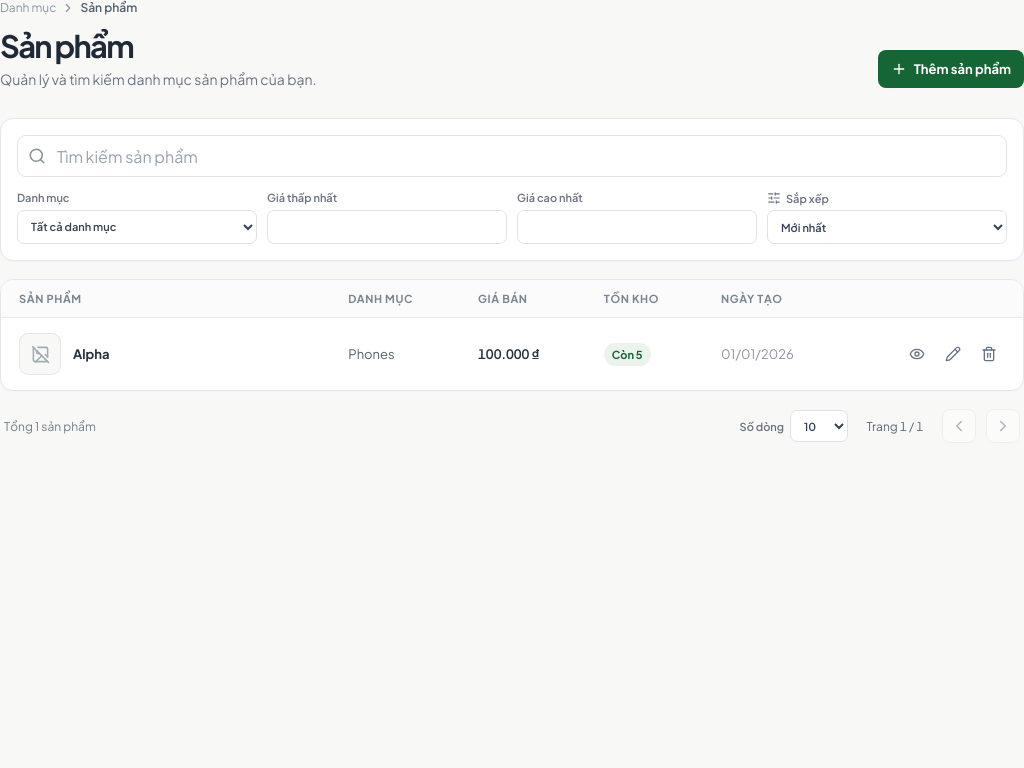
ProductsPage › a failed delete shows an error, keeps the row and does not refetch or retry
Check: the text "Alpha" is shown, box [73,346,110,362]
Click the button named "Xóa Alpha": [989, 354] box [973,338,1005,370]
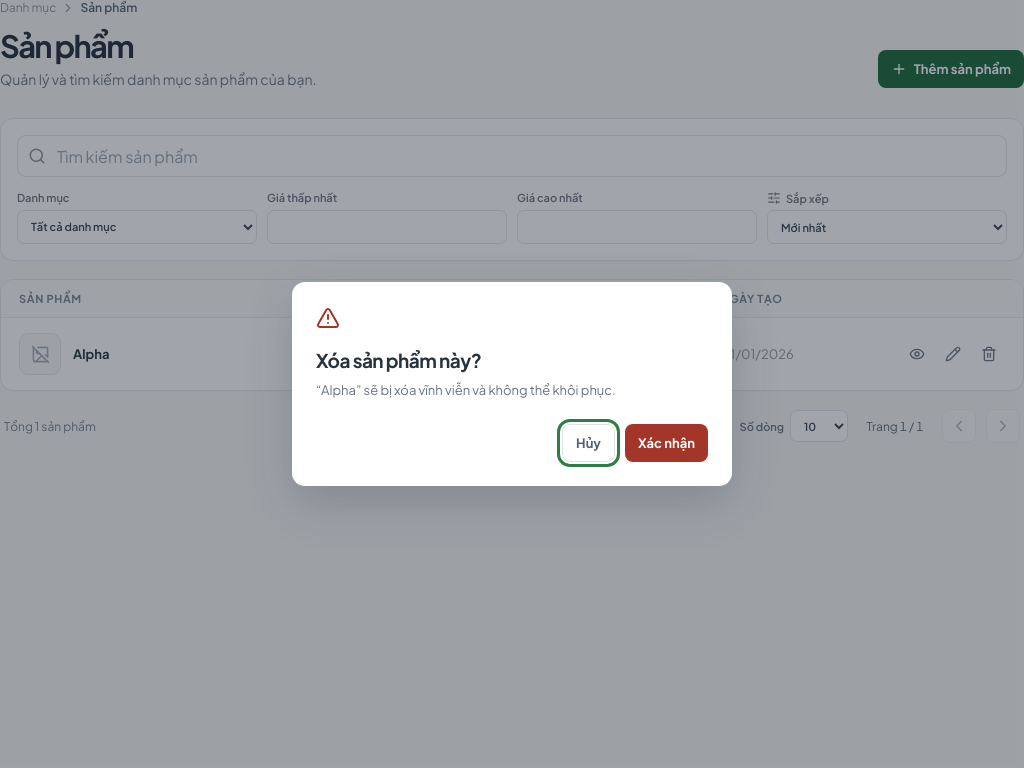
Click the button "Xác nhận": [666, 443] box [625,424,708,462]
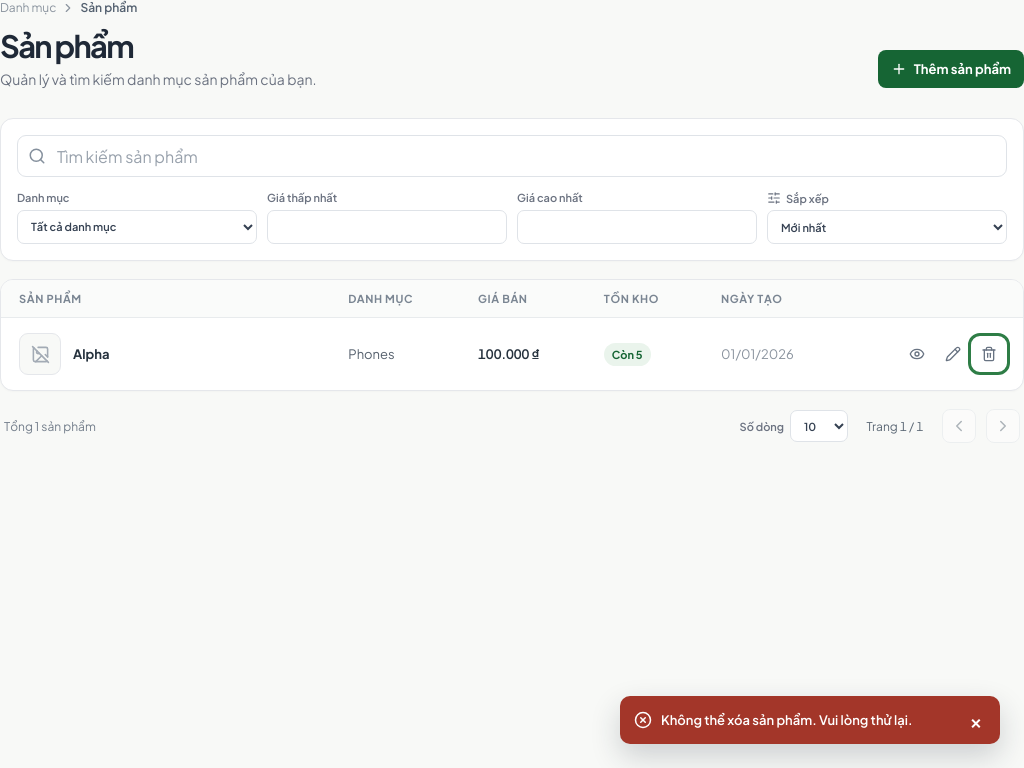
Check: the text "Alpha" is shown, box [73,346,110,362]
Check: the text "Không thể xóa sản phẩm. Vui lòng thử lại." is shown, box [661,712,953,728]
